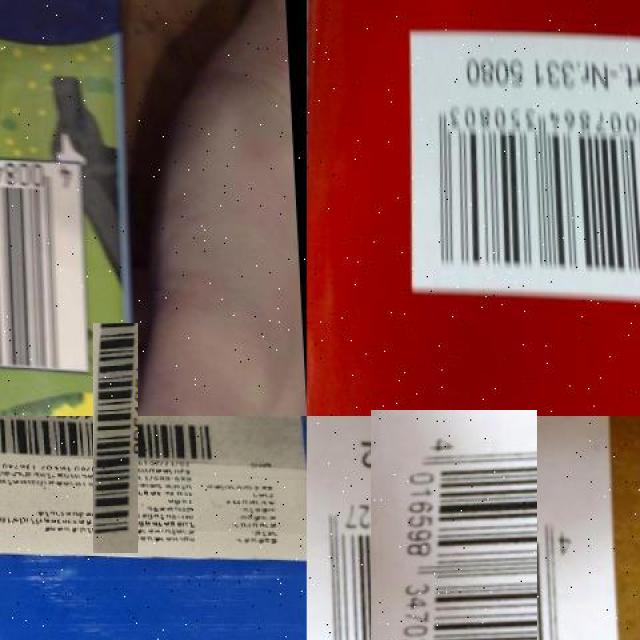Barcode: (402, 28, 640, 306), (338, 442, 568, 640), (0, 152, 91, 369), (47, 369, 184, 508)
